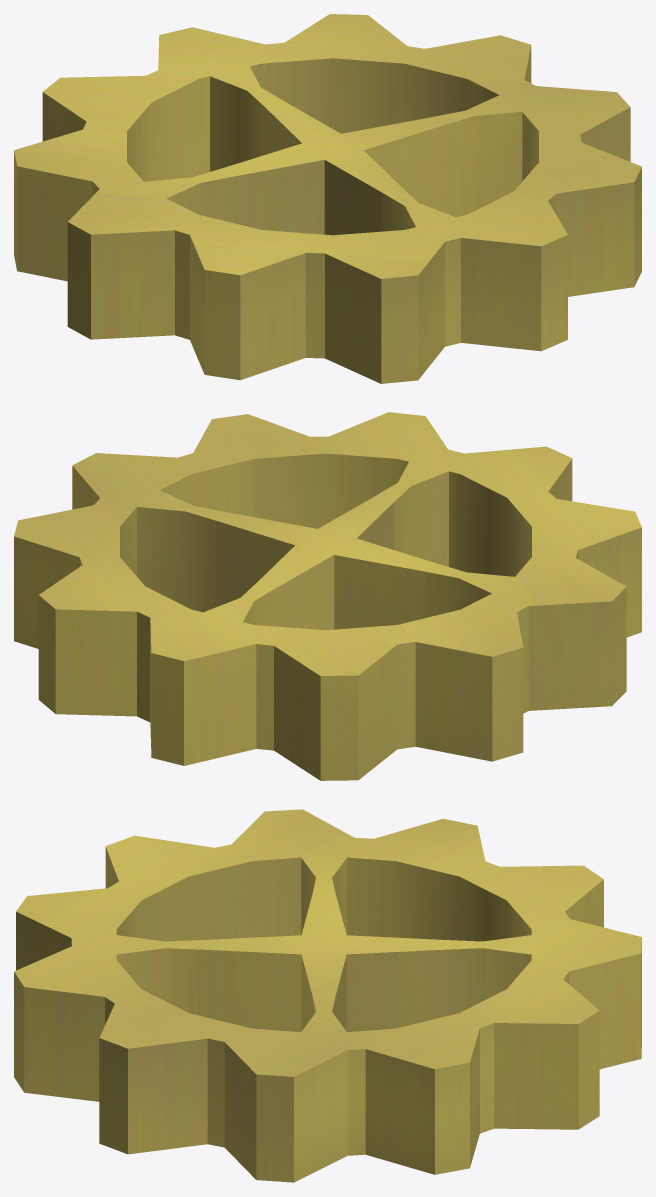
The model's file is Cog4Spoke011.fbx.
3 views of the same model, one above another, from view 1: azimuth 30°, elevation 25°; view 2: azimuth 150°, elevation 25°; view 3: azimuth 270°, elevation 25° (orthographic).
Parts seen in each view (by area): view 1: Cog4Spoke011; view 2: Cog4Spoke011; view 3: Cog4Spoke011.
Boxes of the visible parts, x1=… form: Cog4Spoke011: x1=14, y1=14, x2=641, y2=383; Cog4Spoke011: x1=14, y1=412, x2=641, y2=780; Cog4Spoke011: x1=14, y1=809, x2=641, y2=1182.
Bounding box in the file's own units: 107 × 19.69 × 106.
